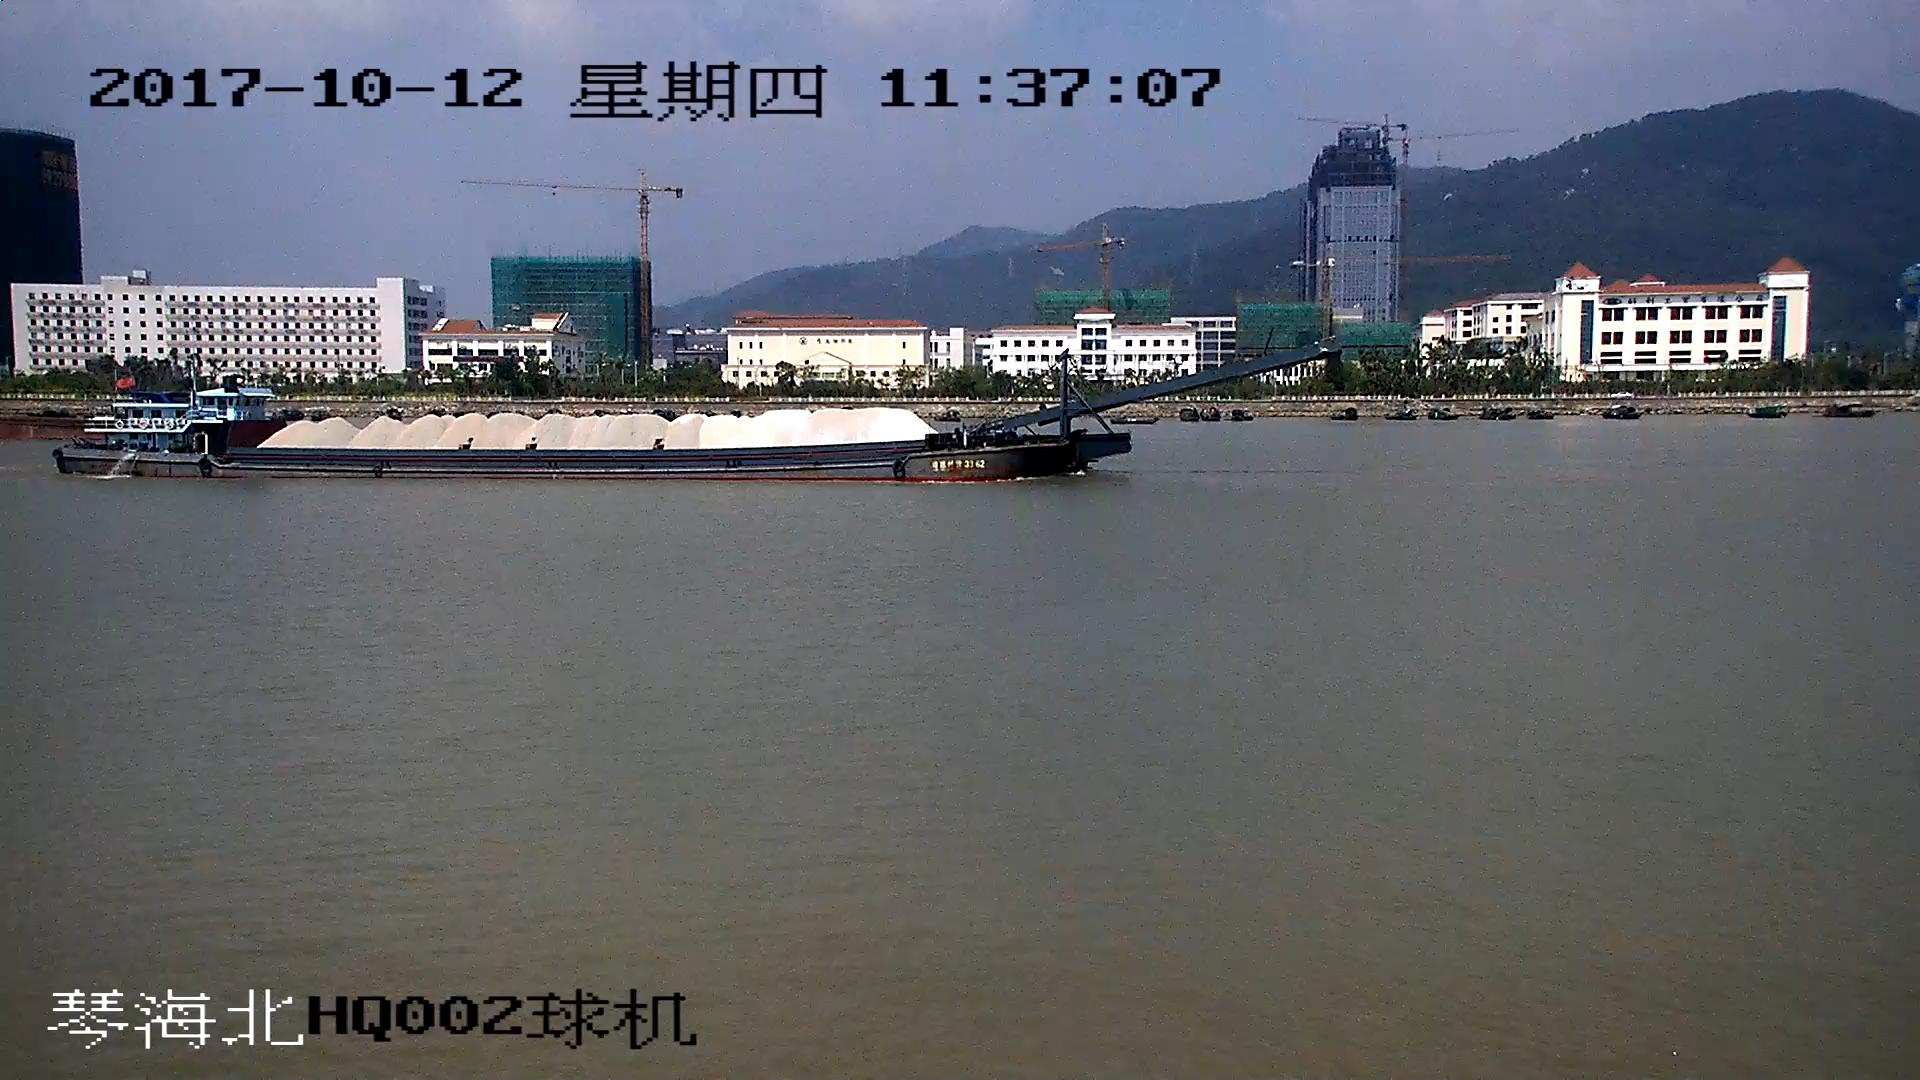ore carrier: (53, 338, 1341, 478)
